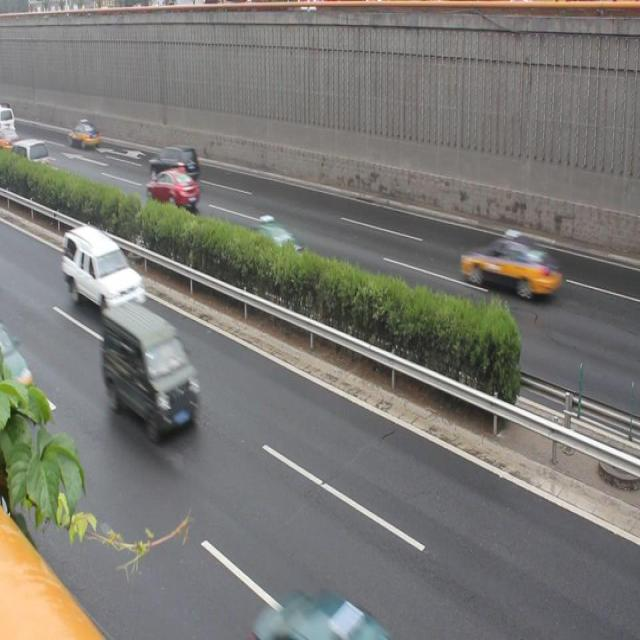car: (251, 579, 393, 640), (60, 219, 147, 318), (454, 229, 560, 306), (240, 207, 306, 275), (146, 166, 199, 216), (148, 144, 196, 182)
truck: (99, 300, 202, 435)
